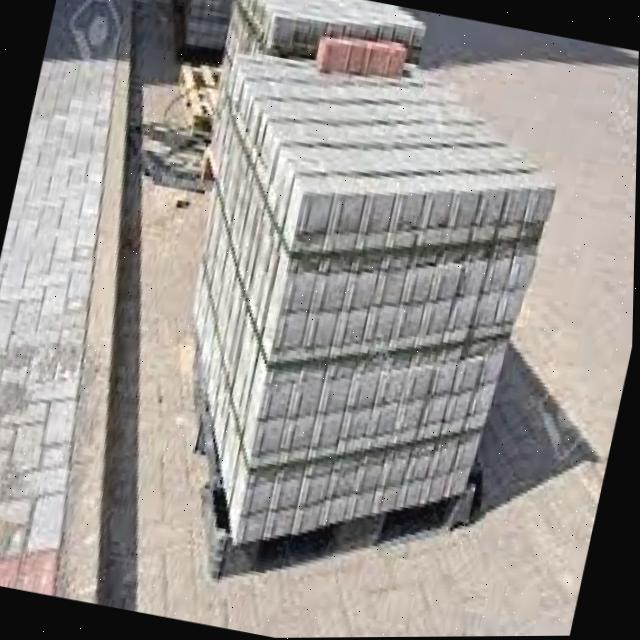bricks: (195, 0, 553, 538)
